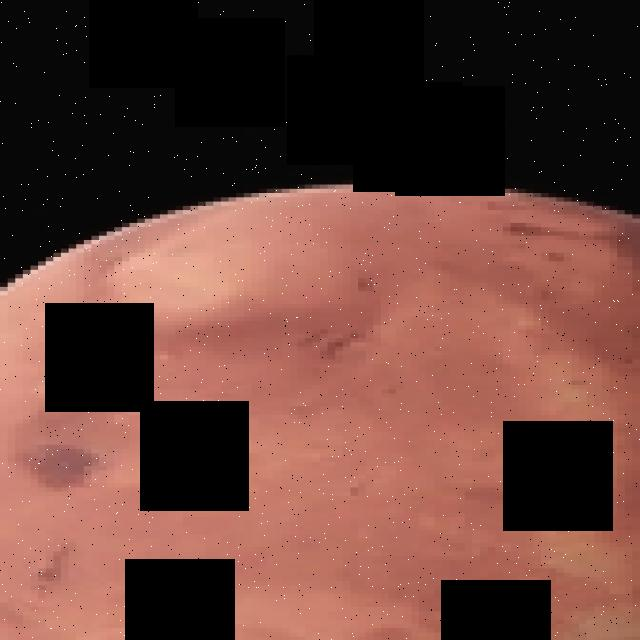Mars: (0, 175, 640, 640)
